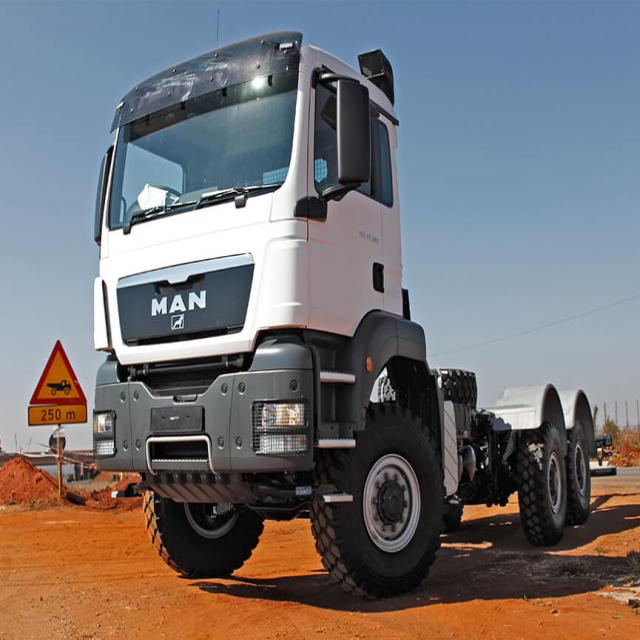Heavy Duty Truck: (92, 22, 617, 604)
